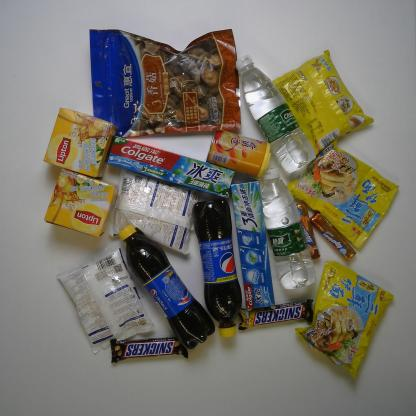Candy: (309, 209, 359, 263), (295, 200, 322, 261)
Canned Food: (203, 127, 273, 180)
Chocolate: (236, 296, 316, 332), (109, 335, 190, 365)
Dried Food: (86, 27, 244, 139)
Drink: (118, 222, 216, 351), (233, 52, 317, 175), (190, 194, 245, 339), (259, 166, 317, 290)
Instant Drink: (41, 106, 120, 180), (41, 166, 120, 238)
Instant Noodles: (283, 134, 402, 252), (293, 259, 396, 381), (271, 48, 375, 157)
Personal Hygiene: (106, 133, 236, 199), (226, 179, 278, 311)
Seasoner: (53, 240, 156, 356), (105, 167, 204, 258)
